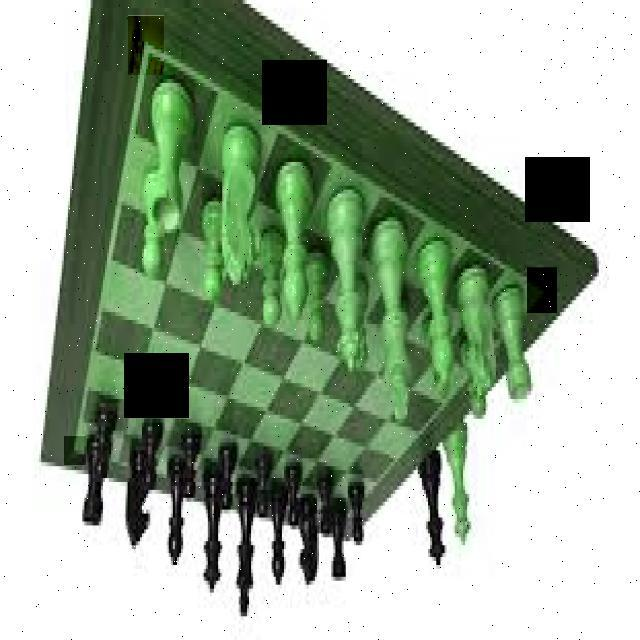chess-table-corners: (128, 15, 164, 74), (527, 266, 557, 312), (64, 436, 86, 465)
